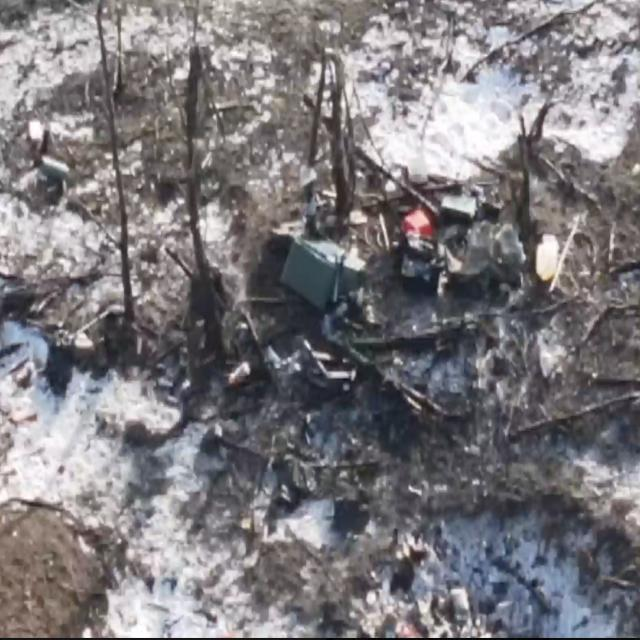vehicle: (274, 228, 367, 315)
